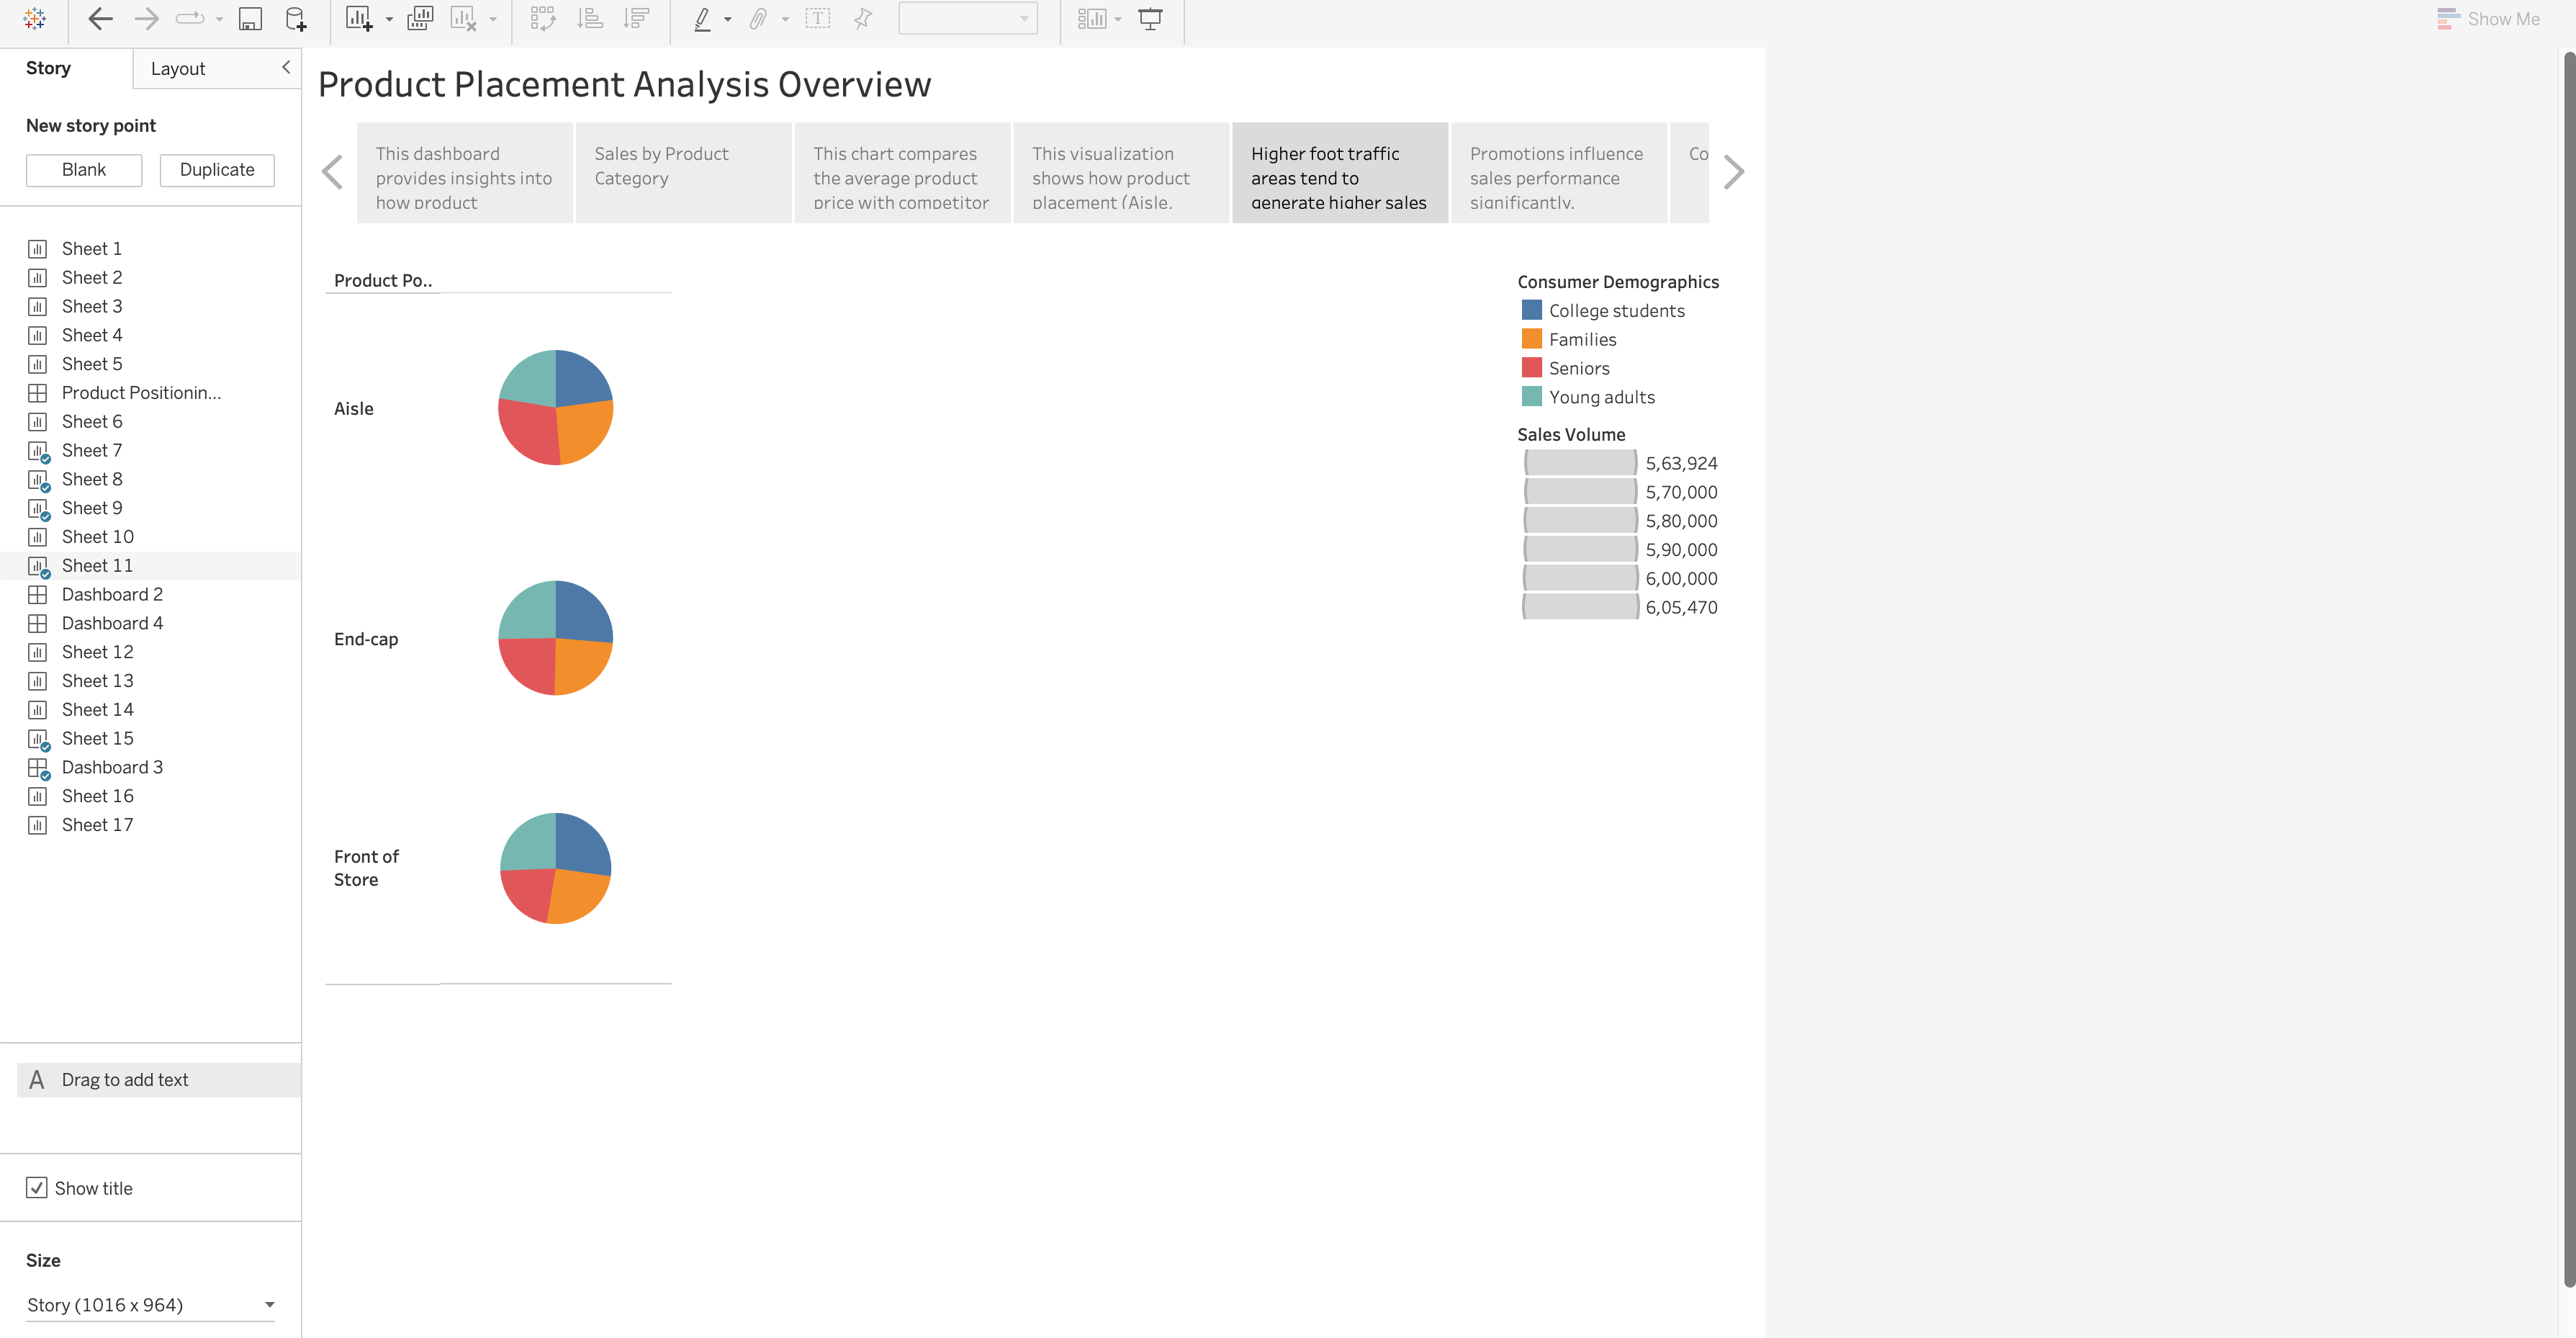

The page's visual inventory and layout, read from the dashboard file:
{"tool":"tableau","page":{"name":"Dashboard 4","canvas":[650,860],"ordinal":2},"visuals":[{"type":"legend","title":"Sheet 7","param":"[federated.0tj0zpc0xud10a18i459t03osh6f].[none:Product Category:nk]","box":[353,19,140,78]},{"type":"worksheet","title":"Sheet 11","mark":"Pie","rows":["Product Position"],"box":[17,76,216,286]},{"type":"legend","title":"Sheet 11","param":"[federated.0tj0zpc0xud10a18i459t03osh6f].[none:Consumer Demographics:nk]","box":[233,76,140,98]},{"type":"legend","title":"Sheet 11","param":"[federated.0tj0zpc0xud10a18i459t03osh6f].[sum:Sales Volume:qk]","box":[248,91,140,138]},{"type":"legend","title":"Sheet 8","param":"[federated.0tj0zpc0xud10a18i459t03osh6f].[:Measure Names]","box":[342,322,140,58]},{"type":"worksheet","title":"Sheet 12","mark":"Pie","rows":["Sales Volume","Sales Volume"],"box":[48,376,216,286]},{"type":"legend","title":"Sheet 12","param":"[federated.0tj0zpc0xud10a18i459t03osh6f].[sum:Competitor's Price:qk]","box":[264,376,140,118]},{"type":"legend","title":"Sheet 9","param":"[federated.0tj0zpc0xud10a18i459t03osh6f].[sum:Price:qk]","box":[324,615,140,76]},{"type":"legend","title":"Sheet 14","param":"[federated.0tj0zpc0xud10a18i459t03osh6f].[none:Seasonal:nk]","box":[270,667,140,58]}]}

Visuals, with their boxes on the page's 650x860 design canvas (x1, y1, x2, y2). These are canvas units, not pixel positions in the 2576x1338 screenshot, which may show the page scaled, cropped or inside an application window:
"Sheet 7" legend: pyautogui.locateOnScreen(353, 19, 493, 97)
"Sheet 11" worksheet (Pie marks): pyautogui.locateOnScreen(17, 76, 233, 362)
"Sheet 11" legend: pyautogui.locateOnScreen(233, 76, 373, 174)
"Sheet 11" legend: pyautogui.locateOnScreen(248, 91, 388, 229)
"Sheet 8" legend: pyautogui.locateOnScreen(342, 322, 482, 380)
"Sheet 12" worksheet (Pie marks): pyautogui.locateOnScreen(48, 376, 264, 662)
"Sheet 12" legend: pyautogui.locateOnScreen(264, 376, 404, 494)
"Sheet 9" legend: pyautogui.locateOnScreen(324, 615, 464, 691)
"Sheet 14" legend: pyautogui.locateOnScreen(270, 667, 410, 725)
